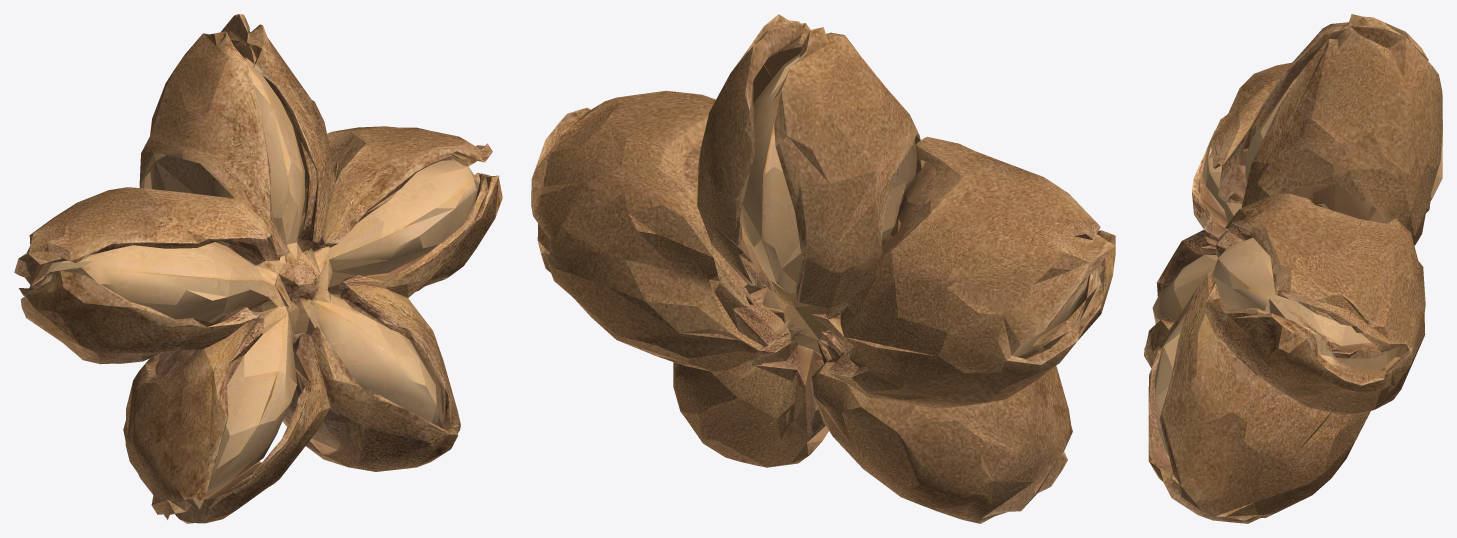
The model's file is s_sacha-inchi.glb.
The picture shows the model from 3 angles, left to right: view 1: azimuth 30°, elevation 25°; view 2: azimuth 150°, elevation 25°; view 3: azimuth 270°, elevation 25°; orthographic projection. The views are drawn at different scales.
Visible parts, largest first — view 1: Meshy_AI_sacha_inchi_pod_game_ready_20261026_texture_remesh_; view 2: Meshy_AI_sacha_inchi_pod_game_ready_20261026_texture_remesh_; view 3: Meshy_AI_sacha_inchi_pod_game_ready_20261026_texture_remesh_.
Boxes of the visible parts, x1=… form: Meshy_AI_sacha_inchi_pod_game_ready_20261026_texture_remesh_: x1=14, y1=14, x2=502, y2=523; Meshy_AI_sacha_inchi_pod_game_ready_20261026_texture_remesh_: x1=531, y1=14, x2=1115, y2=523; Meshy_AI_sacha_inchi_pod_game_ready_20261026_texture_remesh_: x1=1144, y1=14, x2=1442, y2=523.
Bounding box in the file's own units: 1.9 × 1.68 × 0.9944.
Materials: 1 (1 with a texture image).
